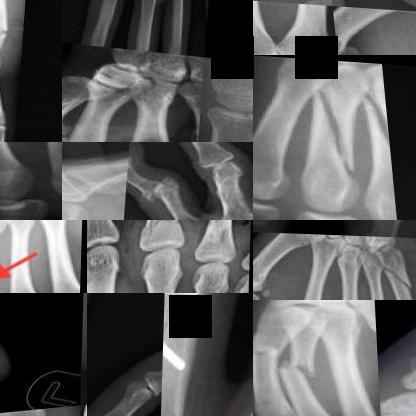fracture: (288, 84, 363, 175), (164, 293, 218, 394), (353, 85, 392, 188), (144, 161, 187, 208), (373, 252, 411, 299), (277, 350, 318, 389), (344, 220, 415, 237), (253, 332, 284, 370), (229, 101, 252, 143), (62, 172, 89, 207), (141, 220, 188, 240), (0, 17, 21, 45), (128, 149, 136, 173)
